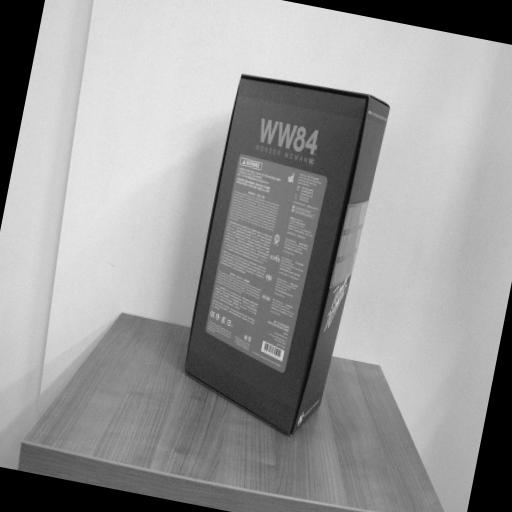WonderWoman: (172, 70, 392, 444)
